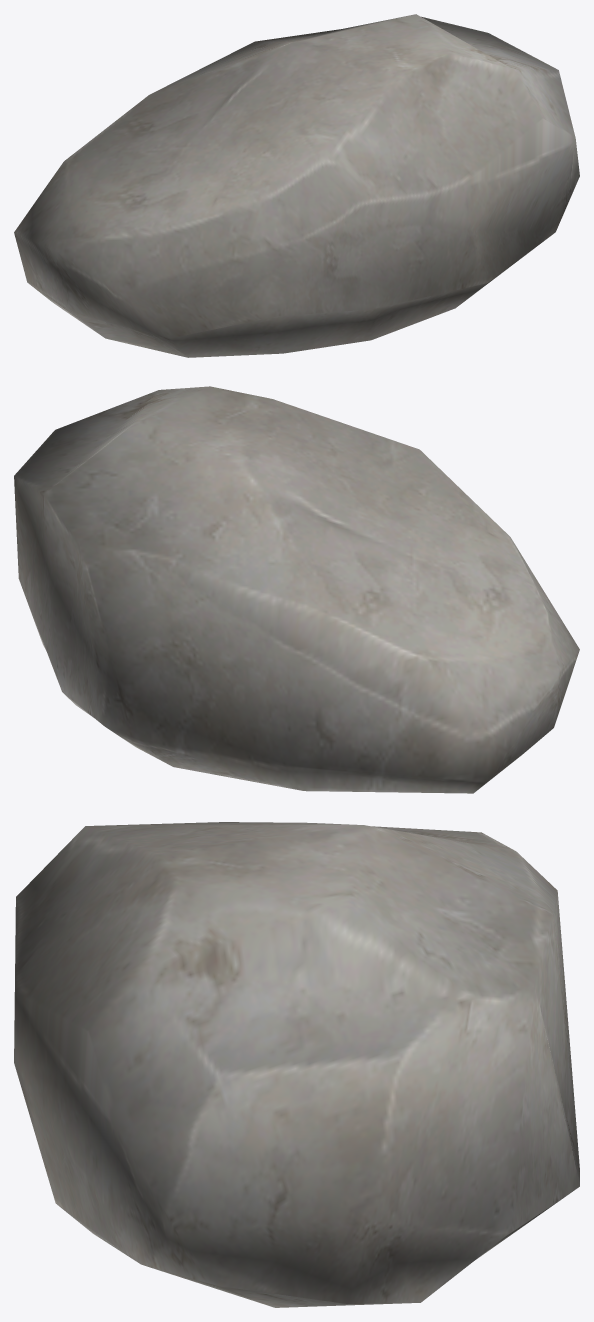
File: Rock_06_high.glb
3 views of the same model, one above another, from view 1: azimuth 30°, elevation 25°; view 2: azimuth 150°, elevation 25°; view 3: azimuth 270°, elevation 25° (orthographic). The views are drawn at different scales.
Parts seen in each view (by area): view 1: rock_06; view 2: rock_06; view 3: rock_06.
Boxes of the visible parts, x1,y1,x2,y2 form: rock_06: (14, 14, 579, 357); rock_06: (14, 386, 579, 793); rock_06: (14, 822, 579, 1307).
Size of the model in its own units: 1.26 by 0.6395 by 0.8094.
1 material, 1 textured.
